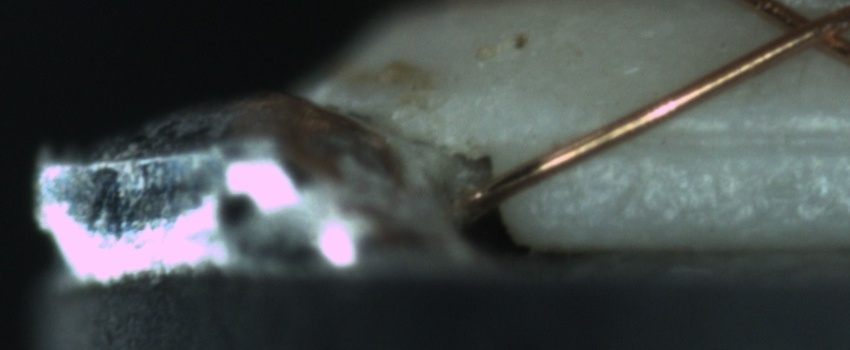CL: (754, 0, 847, 64)
DL: (608, 101, 844, 174)
